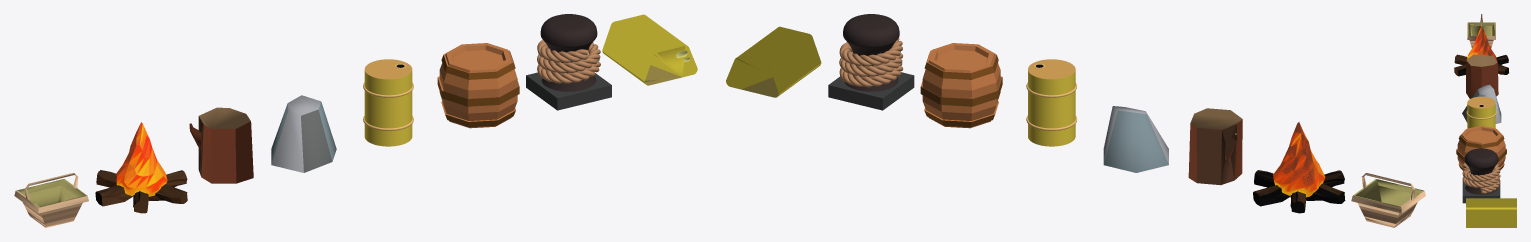
3 views of the same model, side by side, from view 1: azimuth 30°, elevation 25°; view 2: azimuth 150°, elevation 25°; view 3: azimuth 270°, elevation 25° (orthographic). The views are drawn at different scales.
Parts seen in each view (by area): view 1: water, rope, gold, oil, fire, wood, stone, basket; view 2: water, rope, gold, oil, fire, wood, stone, basket; view 3: rope, gold, water, wood, oil, fire, basket, stone.
Boxes of the visible parts, <box> form: water: <box>437,43,519,128</box>; rope: <box>526,14,611,110</box>; gold: <box>602,14,697,85</box>; oil: <box>363,59,413,146</box>; fire: <box>95,122,187,213</box>; wood: <box>189,107,253,183</box>; stone: <box>271,95,336,172</box>; basket: <box>14,172,88,227</box>; water: <box>920,43,1002,128</box>; rope: <box>828,14,914,110</box>; gold: <box>726,26,821,97</box>; oil: <box>1026,59,1076,146</box>; fire: <box>1253,122,1345,213</box>; wood: <box>1188,108,1242,185</box>; stone: <box>1103,106,1168,172</box>; basket: <box>1351,173,1425,227</box>; rope: <box>1462,148,1500,203</box>; gold: <box>1466,198,1516,227</box>; water: <box>1456,126,1506,170</box>; wood: <box>1466,54,1498,98</box>; oil: <box>1466,96,1496,128</box>; fire: <box>1454,26,1508,76</box>; basket: <box>1467,14,1495,48</box>; stone: <box>1462,84,1501,123</box>.
Size of the model in its own units: 4024 by 437 by 556.
